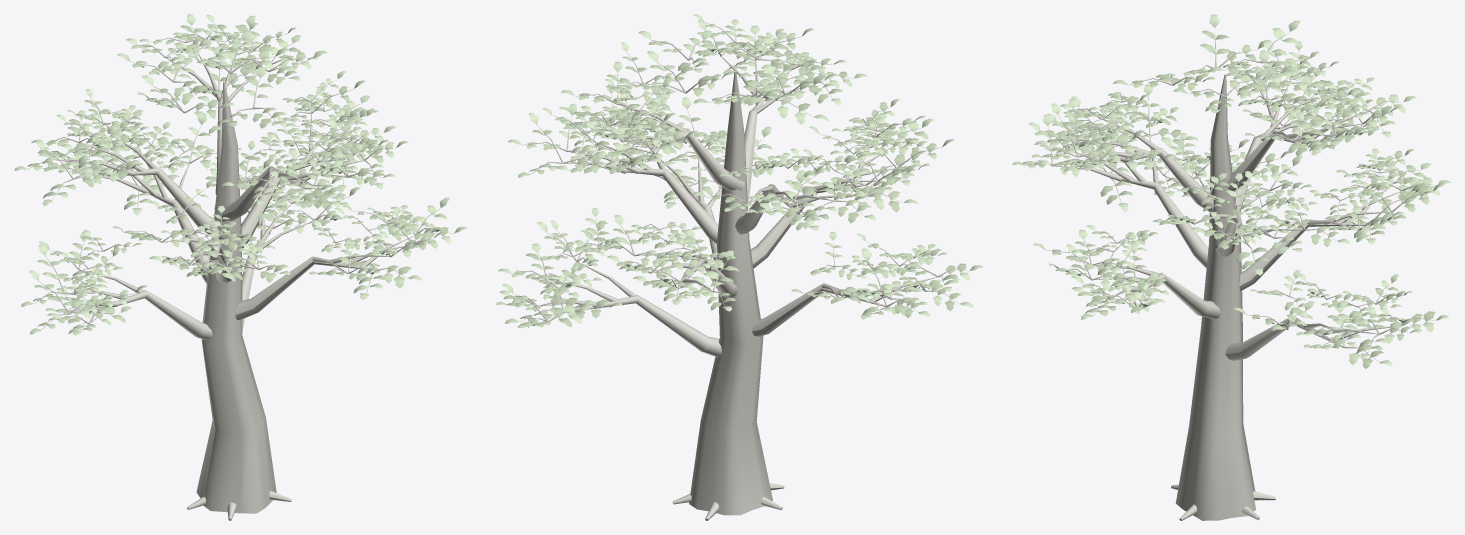
File: SM_WLA_OakAncient_B.fbx
The picture shows the model from 3 angles, left to right: view 1: azimuth 30°, elevation 25°; view 2: azimuth 150°, elevation 25°; view 3: azimuth 270°, elevation 25°; orthographic projection. The views are drawn at different scales.
Visible parts, largest first — view 1: SM_WLA_OakAncient_B; view 2: SM_WLA_OakAncient_B; view 3: SM_WLA_OakAncient_B.
Boxes of the visible parts, x1,y1,x2,y2 form: SM_WLA_OakAncient_B: (14,14,467,520); SM_WLA_OakAncient_B: (496,14,983,520); SM_WLA_OakAncient_B: (1012,14,1450,520).
Size of what is drawn, in the model's own units: 9.55 by 10.24 by 10.67.
